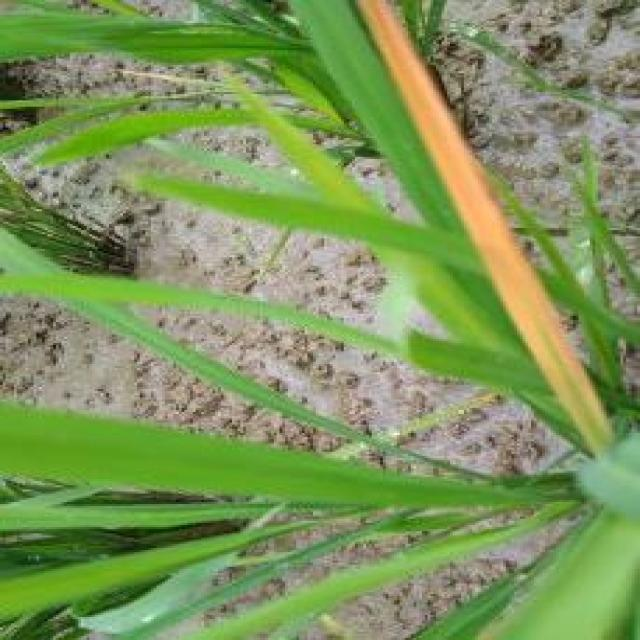Tungro: (356, 2, 638, 532)
